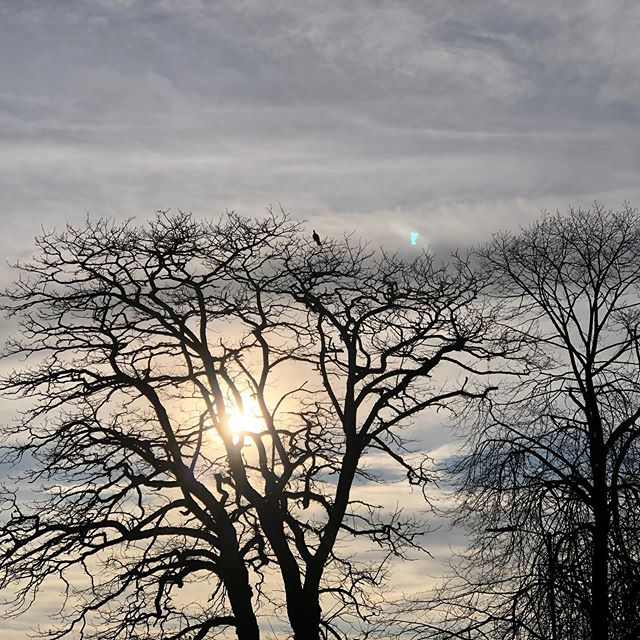sky: (1, 1, 636, 216)
tree: (1, 220, 491, 640), (494, 223, 640, 632)
